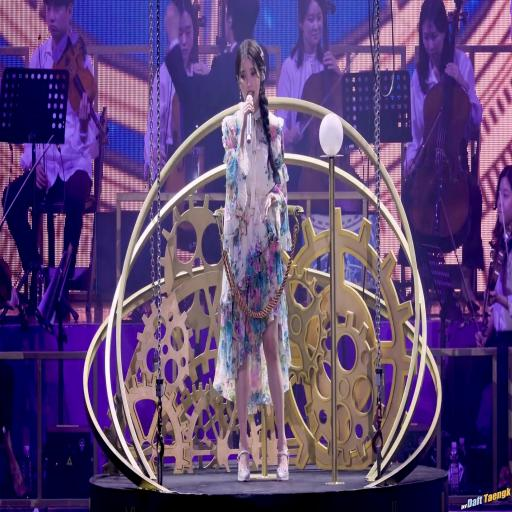IU: (234, 38, 266, 106)
